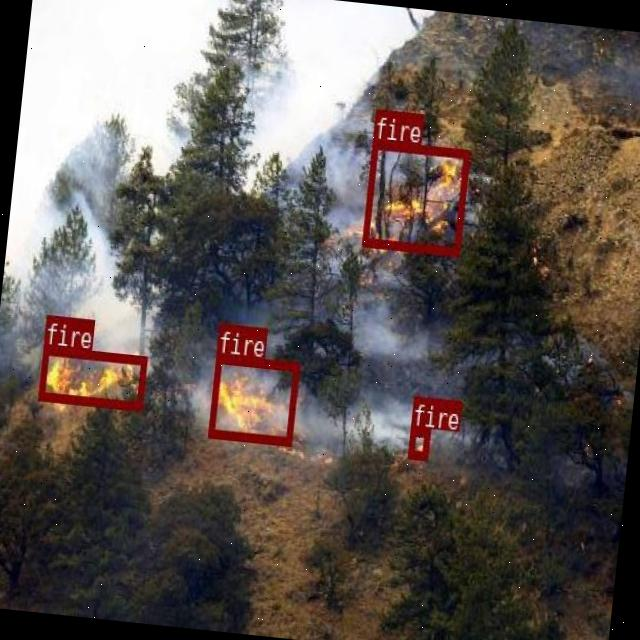fire: (362, 140, 469, 254), (206, 354, 298, 444), (38, 344, 146, 408), (408, 426, 428, 458)
